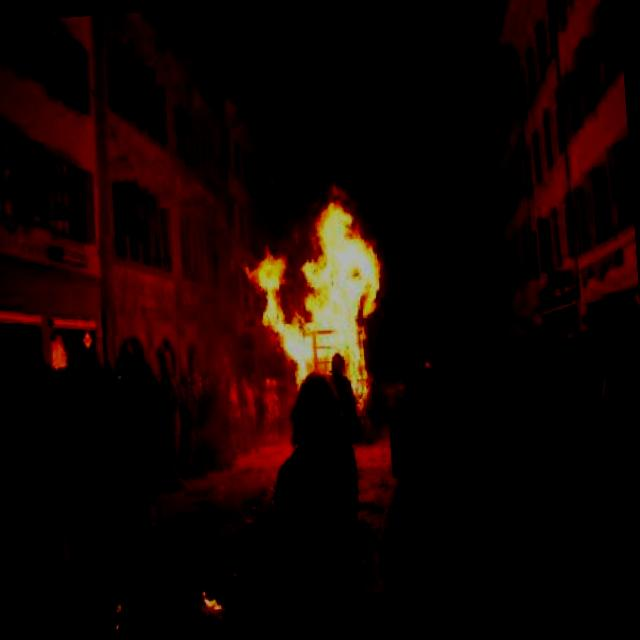Person: (1, 336, 296, 640), (371, 307, 640, 634), (252, 357, 371, 637)
